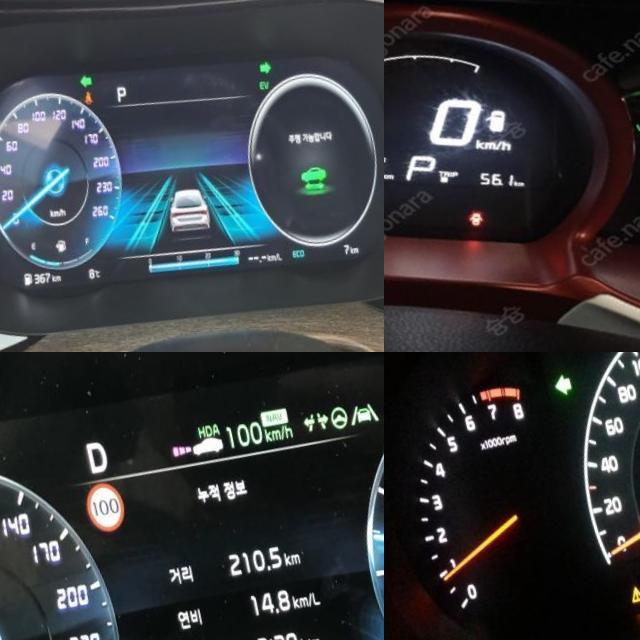Doors: (447, 224, 465, 242)
LaneCenteringOff: (339, 422, 371, 449)
